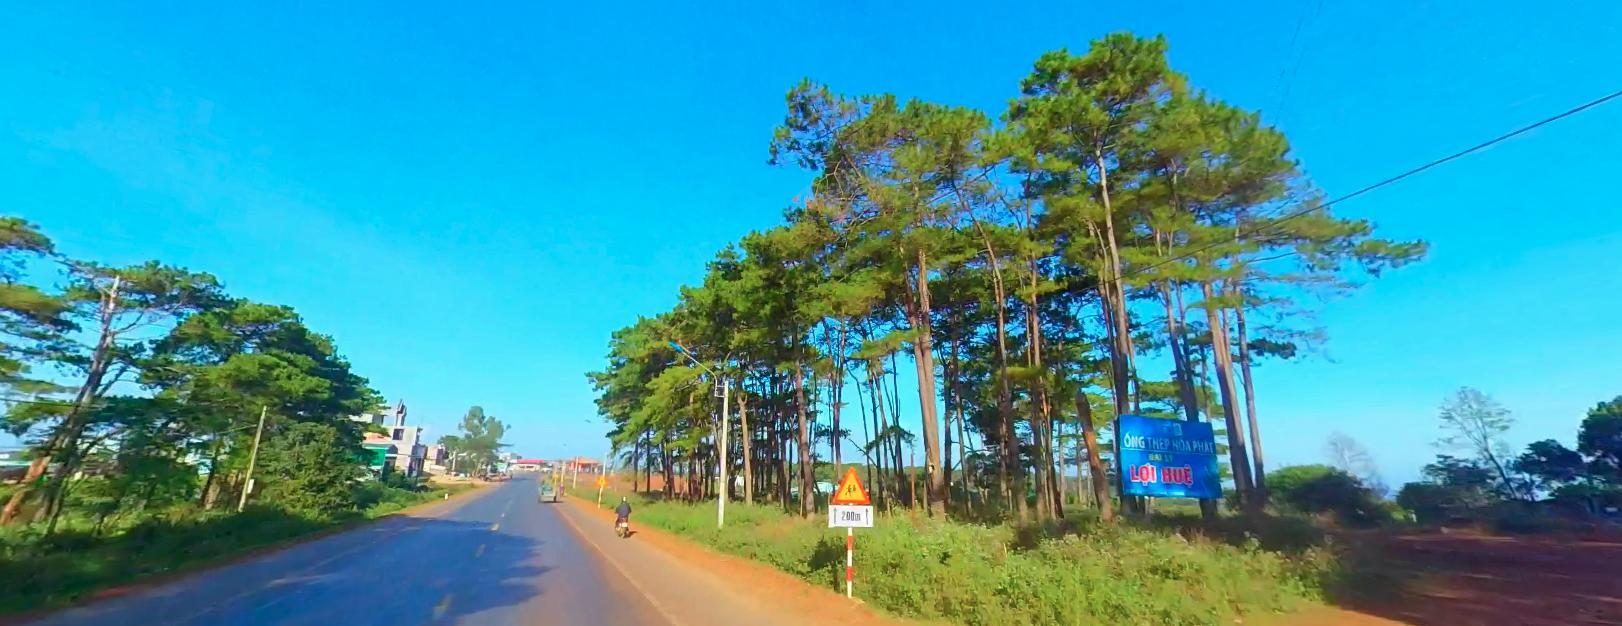Nguy hiem: (831, 465, 870, 505), (832, 465, 868, 502), (596, 474, 607, 484), (596, 475, 605, 483)
